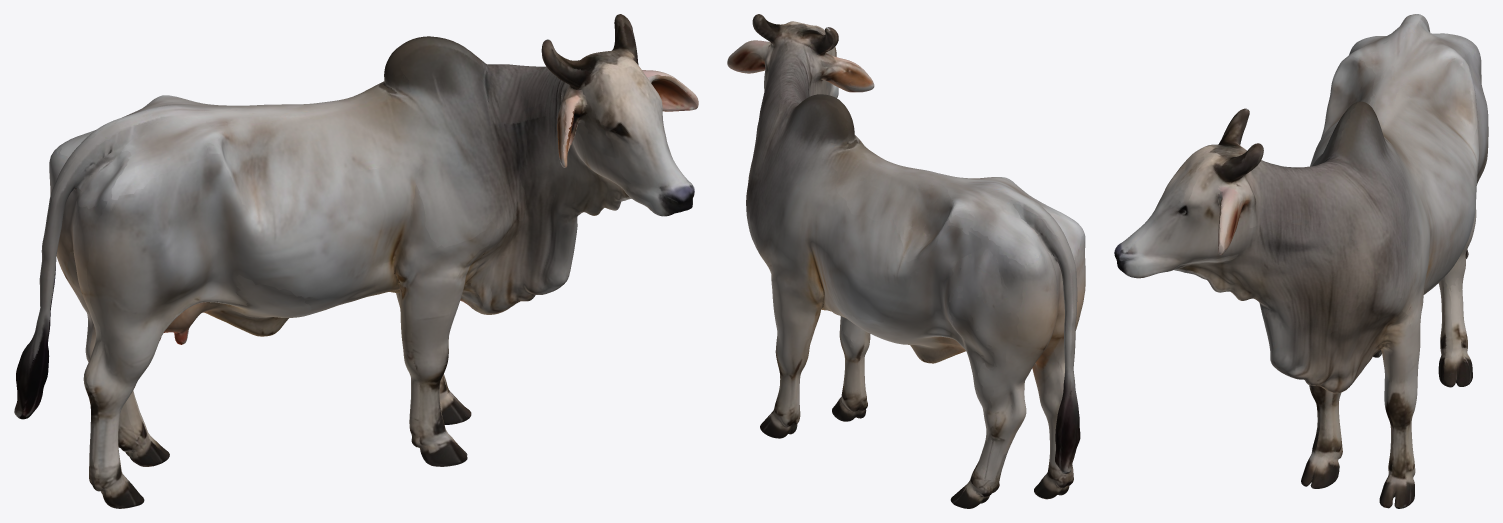
The model's file is generated-nelore.glb.
3 renders of one model, left to right at view 1: azimuth 30°, elevation 25°; view 2: azimuth 150°, elevation 25°; view 3: azimuth 270°, elevation 25°, orthographic. The views are drawn at different scales.
Parts seen in each view (by area): view 1: nelore-generated-textured; view 2: nelore-generated-textured; view 3: nelore-generated-textured.
Part boxes in pixels (box(x1,y1,x2,y2)): nelore-generated-textured: box(14, 14, 698, 508); nelore-generated-textured: box(727, 14, 1085, 508); nelore-generated-textured: box(1114, 14, 1488, 508).
Bounding box in the file's own units: 1.99 × 1.49 × 1.26.
1 material, 1 textured.
